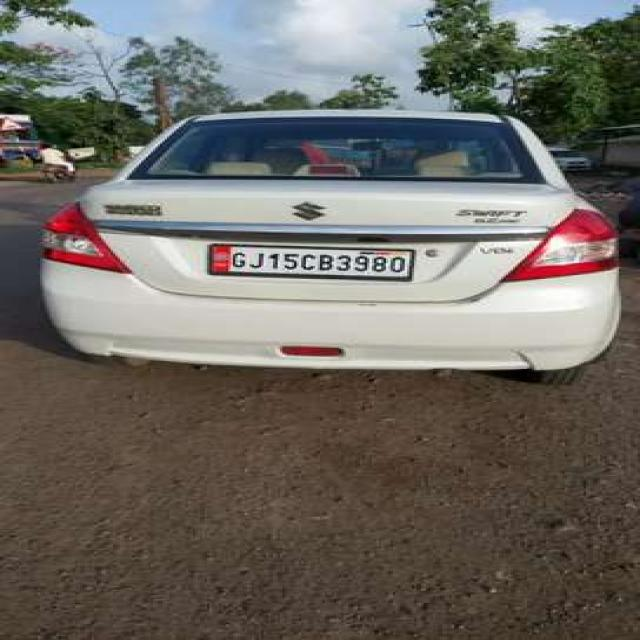Plate: (208, 245, 413, 278)
